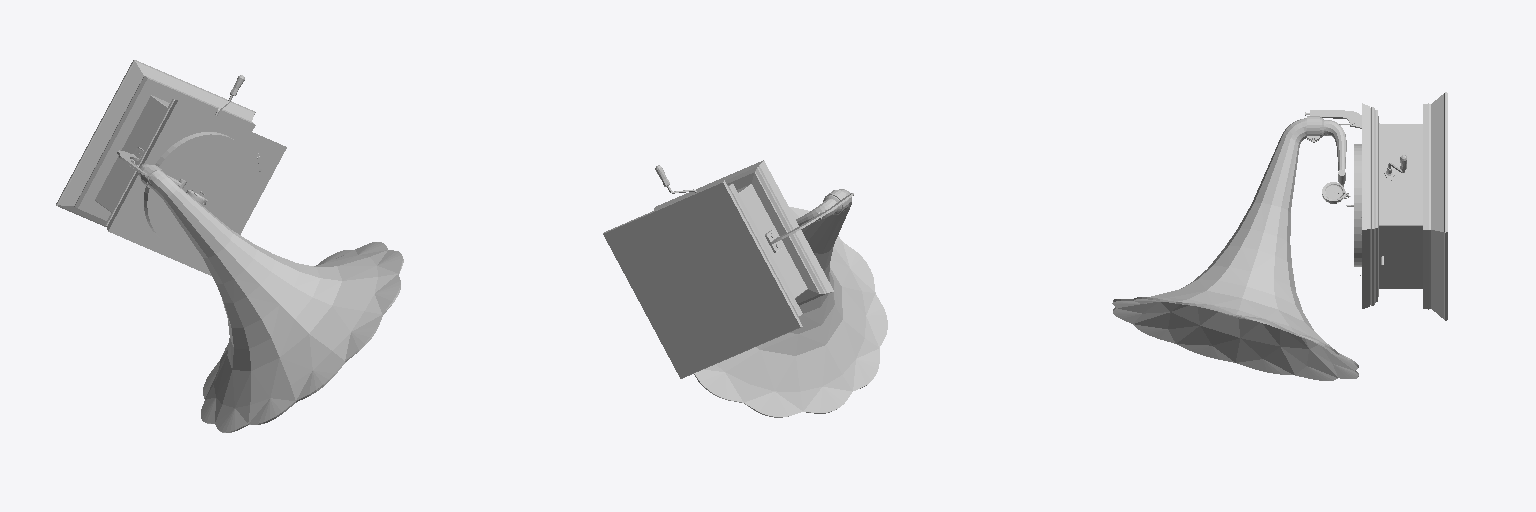
Rendered from Gramophone.obj.
The picture shows the model from 3 angles: view 1: azimuth 30°, elevation 25°; view 2: azimuth 150°, elevation 25°; view 3: azimuth 270°, elevation 25°; orthographic projection.
Visible parts, largest first — view 1: mesh0; view 2: mesh0; view 3: mesh0.
Part boxes in pixels (x1,y1,x2,y2): mesh0: (56,60,403,432); mesh0: (603,160,887,417); mesh0: (1112,92,1447,380).
Bounding box in the file's own units: 4.36 × 5.17 × 5.39.